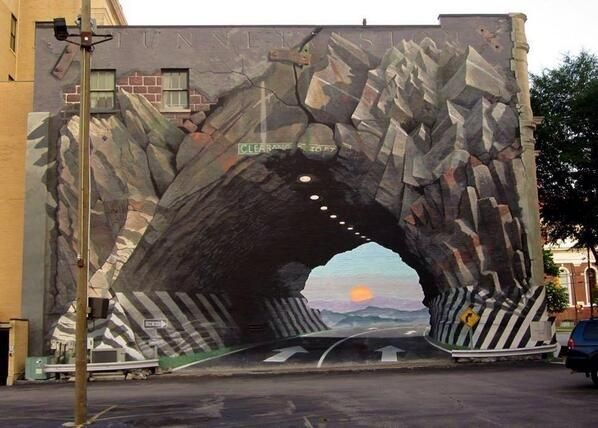painting: (16, 16, 525, 382)
